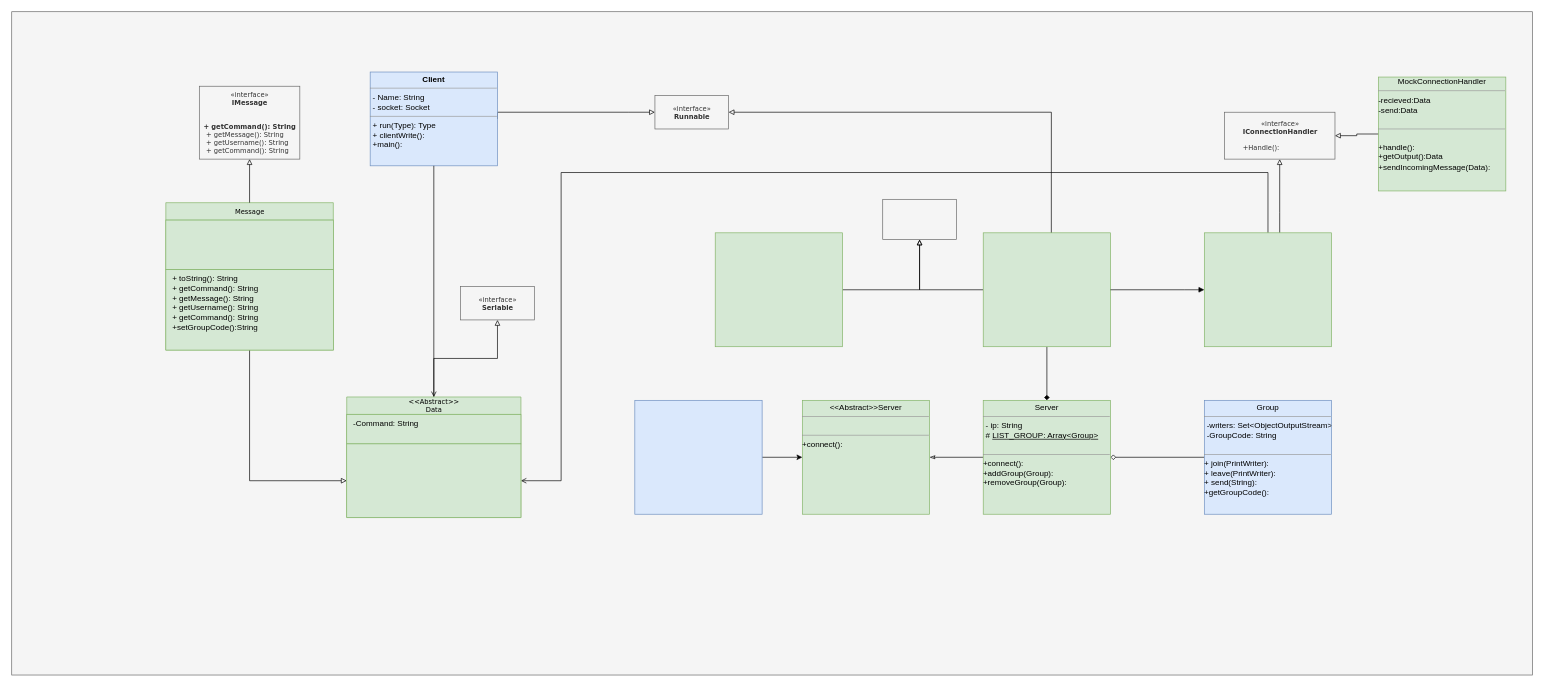
The diagram is 1544 pixels wide and 687 high, and some of its shapes have lost their labels. Each missing label, with the centre of its shape:
"+ toString(): String + getCommand(): String" goes at [433,480].
"-Command: String -Username:String -Groupcode:String -Message:String" goes at [249,244].
"ConnectionHandler - socket: Socket +handle():" goes at [1268,289].
"Host +main():" goes at [698,457].
"MockPortListener - ip: String -port: Int +run():void" goes at [779,289].
"PortListener - ip: String -port: Int +run():void" goes at [1047,289].
"«interface» IPortListener +run():void" goes at [919,219].
